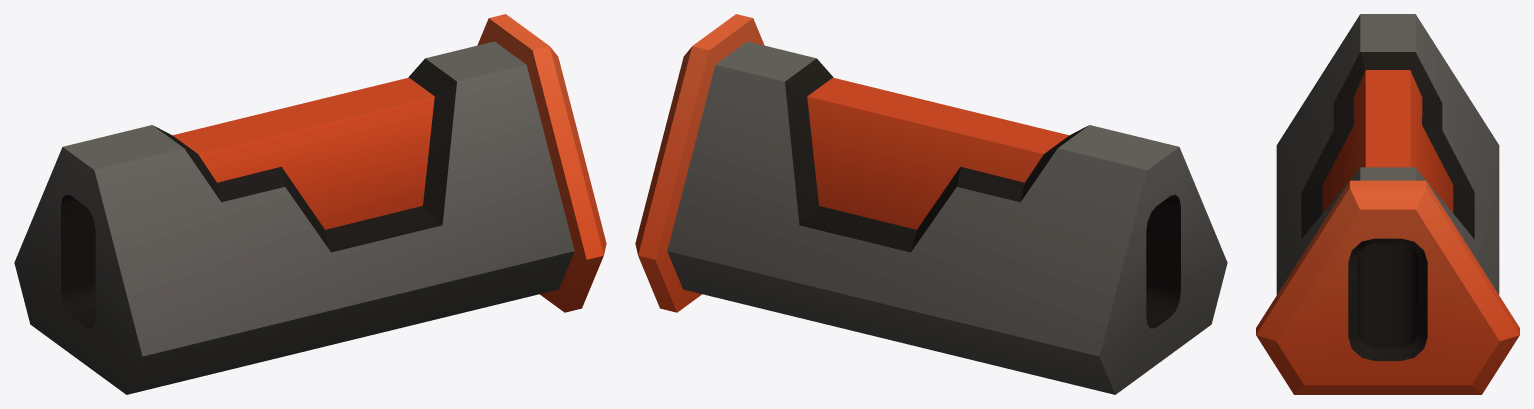
Rendered from Muzzle_Caliber1_04.fbx.
3 renders of one model, left to right at view 1: azimuth 30°, elevation 25°; view 2: azimuth 150°, elevation 25°; view 3: azimuth 270°, elevation 25°, orthographic. The views are drawn at different scales.
Parts seen in each view (by area): view 1: Muzzle_Caliber1_04; view 2: Muzzle_Caliber1_04; view 3: Muzzle_Caliber1_04.
Part boxes in pixels (x1,y1,x2,y2): Muzzle_Caliber1_04: (14,14,606,394); Muzzle_Caliber1_04: (635,14,1227,394); Muzzle_Caliber1_04: (1256,14,1519,394).
Size of the model in its own units: 13.44 by 6.61 by 7.64.
